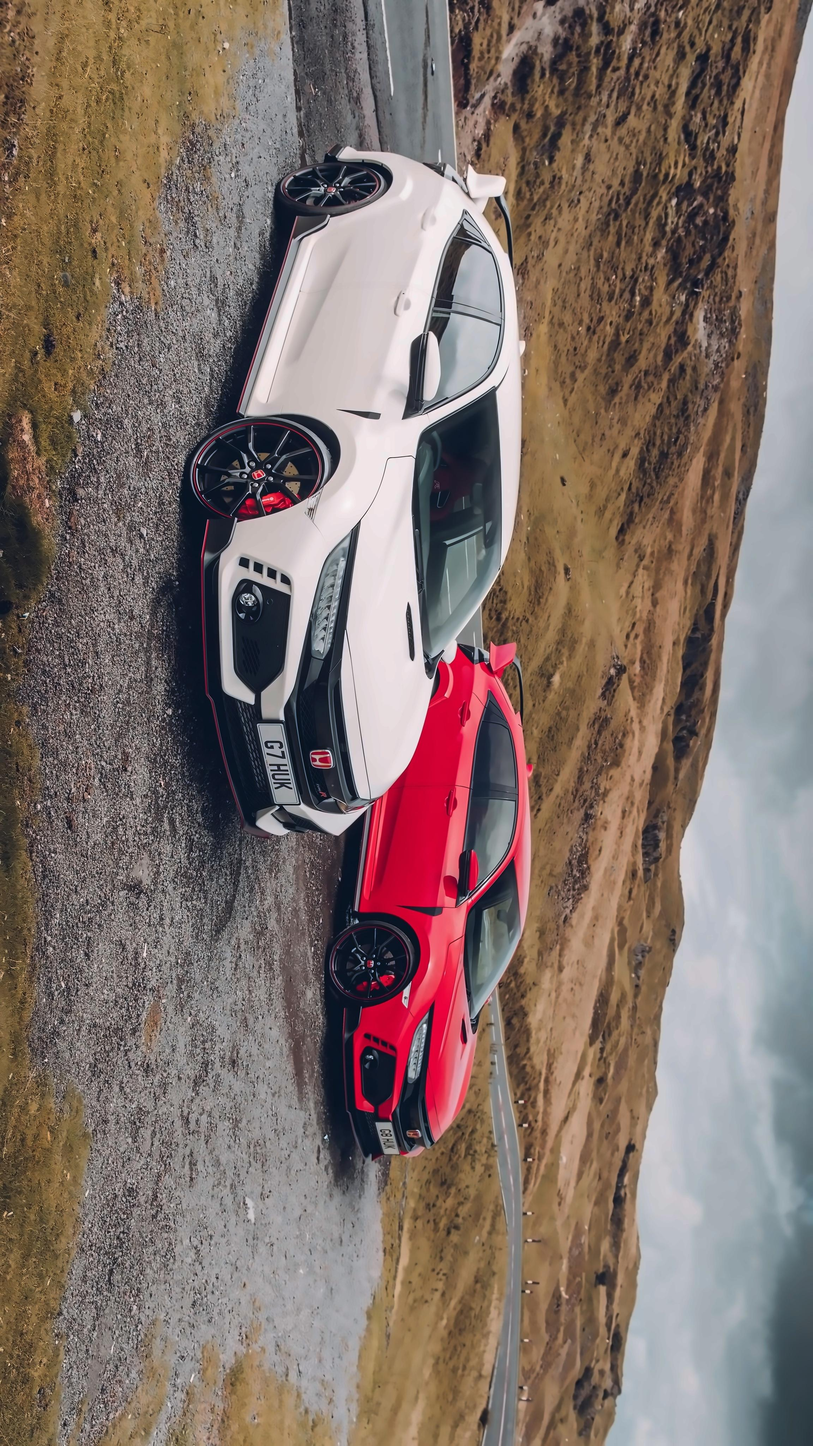Car hood: (327, 452, 440, 803), (428, 939, 481, 1140)
Driver-s door - -F-R-: (231, 267, 516, 435), (347, 778, 538, 919)
Fender - -F-R-: (247, 407, 439, 545), (347, 901, 464, 1016)
Fender - -R-R-: (315, 141, 503, 223), (430, 648, 517, 717)
Front bumper: (193, 507, 347, 847), (336, 966, 440, 1170)
Headlight - -R-: (300, 520, 363, 661), (406, 999, 435, 1089)
Passenger-s door - -R-R-: (266, 195, 520, 321), (369, 690, 536, 805)
Side bumper - -R-: (224, 207, 335, 415), (344, 792, 390, 919)
Side mirror - -R-: (407, 328, 441, 419), (452, 849, 479, 912)
